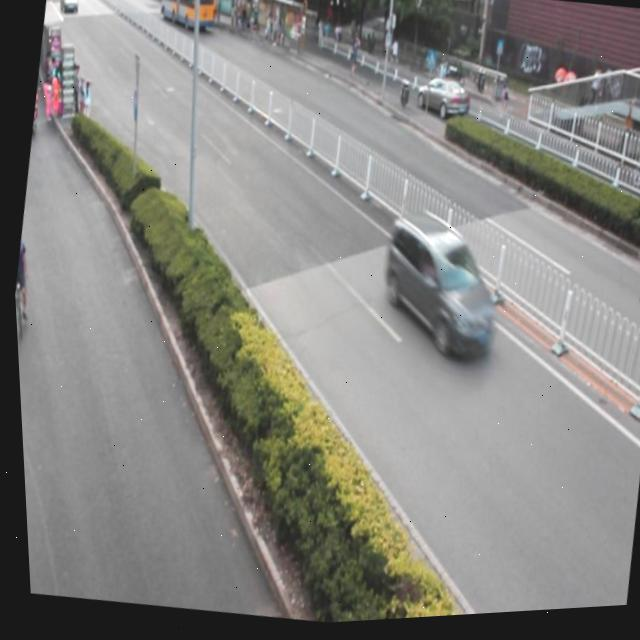car: (367, 210, 508, 373), (410, 77, 473, 133)
